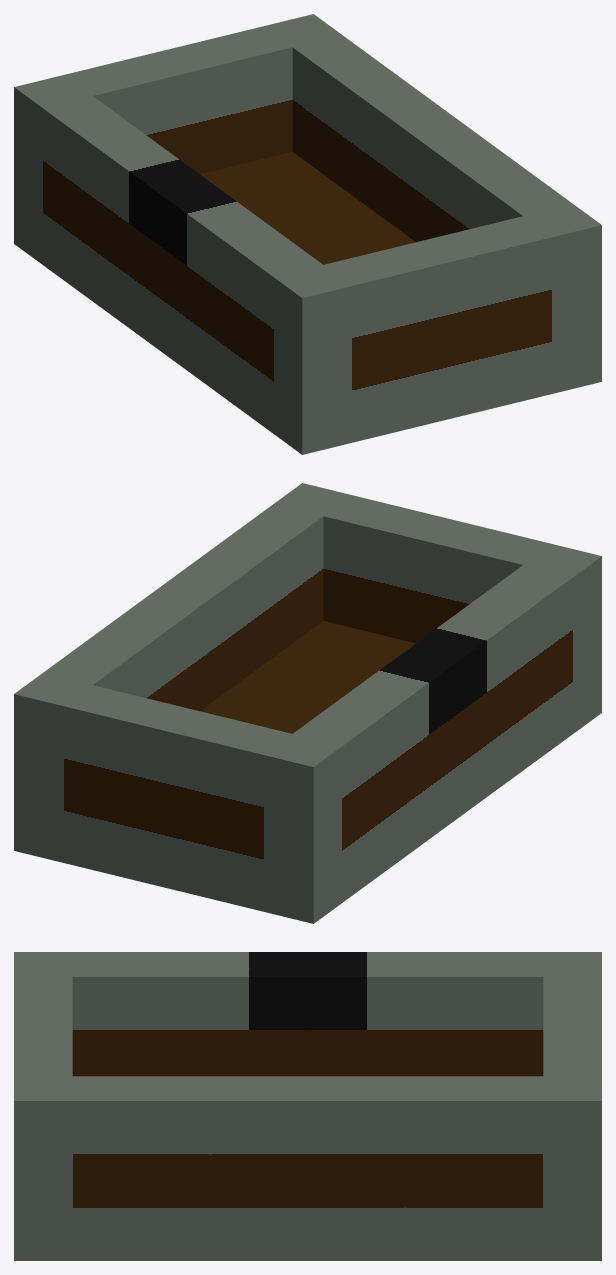
Rendered from chest.dae.
3 views of the same model, one above another, from view 1: azimuth 30°, elevation 25°; view 2: azimuth 150°, elevation 25°; view 3: azimuth 270°, elevation 25° (orthographic).
Parts seen in each view (by area): view 1: chest; view 2: chest; view 3: chest.
Boxes of the visible parts, bbox=[...] form: chest: bbox=[14, 14, 601, 454]; chest: bbox=[14, 483, 601, 923]; chest: bbox=[14, 952, 601, 1260].
Bounding box in the file's own units: 0.6 × 0.3 × 1.
Materials: 1 (1 with a texture image).
